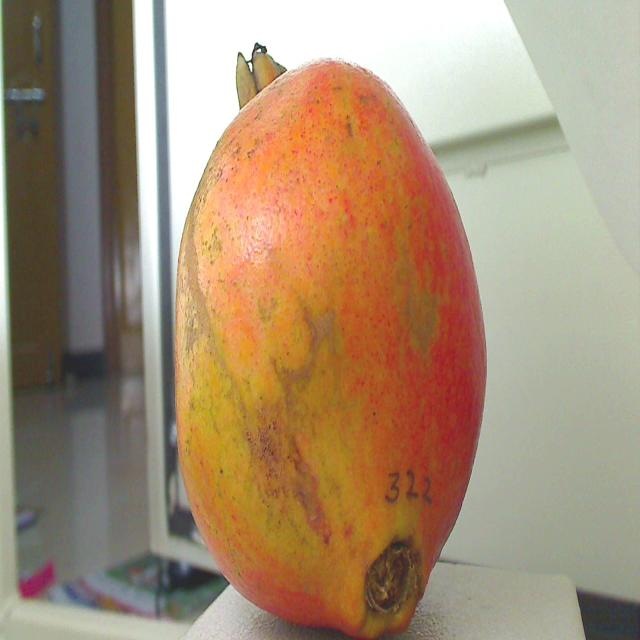pomegranate: (152, 31, 492, 640)
